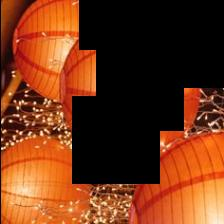orange: (12, 0, 224, 224), (59, 15, 200, 163), (0, 138, 89, 224)
